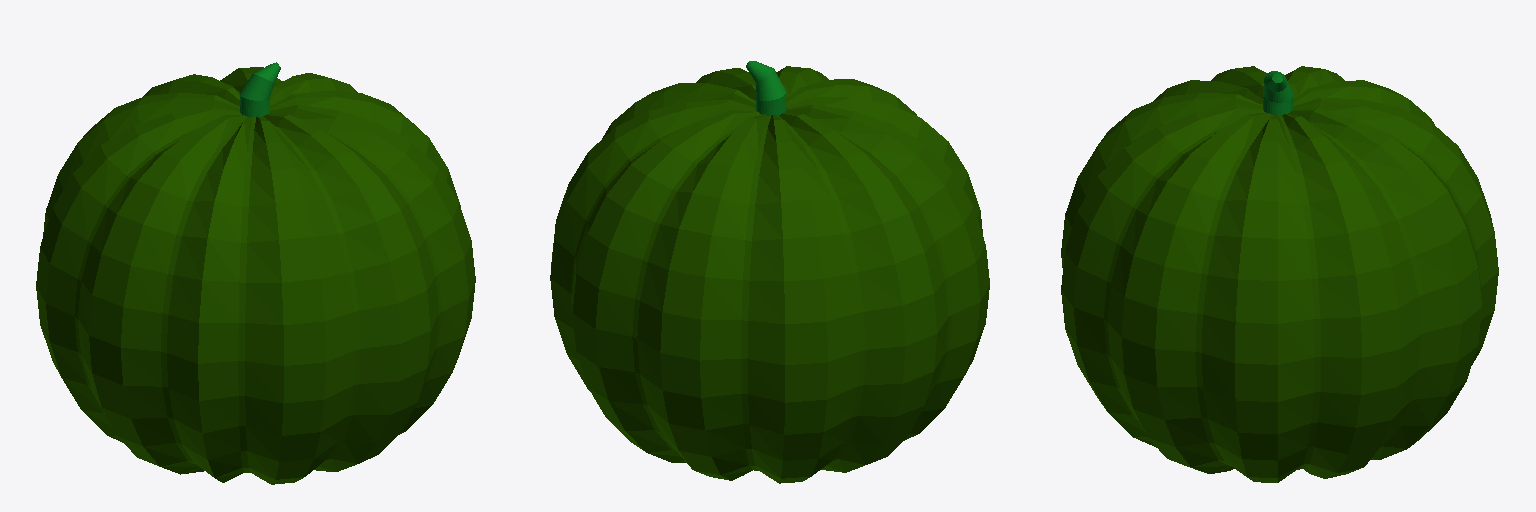
File: pumkin_green.obj
3 views of the same model, side by side, from view 1: azimuth 30°, elevation 25°; view 2: azimuth 150°, elevation 25°; view 3: azimuth 270°, elevation 25° (orthographic).
Parts seen in each view (by area): view 1: Sphere.002, Circle.002; view 2: Sphere.002, Circle.002; view 3: Sphere.002, Circle.002.
Part boxes in pixels (x1,y1,x2,y2): Sphere.002: (36,67,475,484); Circle.002: (240,62,280,116); Sphere.002: (550,66,989,483); Circle.002: (746,61,786,115); Sphere.002: (1061,66,1498,482); Circle.002: (1263,71,1292,114).
Bounding box in the file's own units: 1.47 × 1.4 × 1.47.